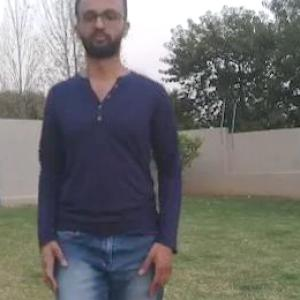follow: (48, 0, 154, 299)
